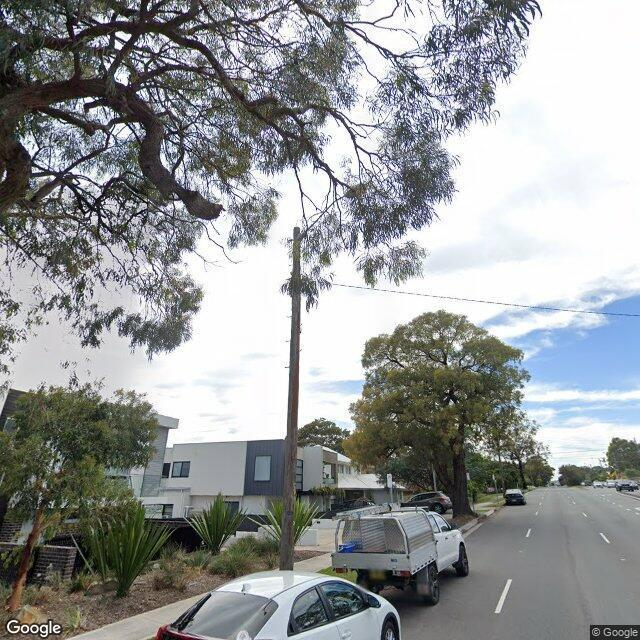streetlight: (301, 181, 370, 240)
timber-pole: (281, 225, 302, 570)
